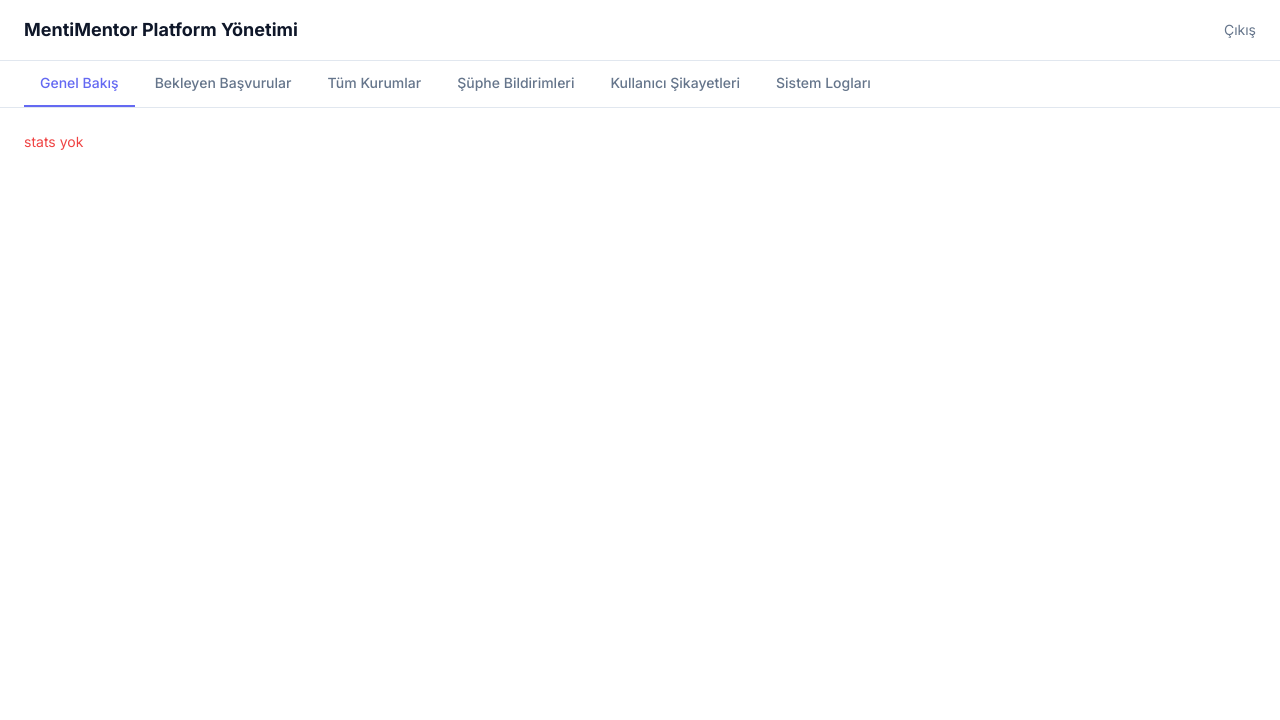
it: Platform paneli — kullanıcı şikayetleri sayfalama (AN-39) › negatif: total == items iken düğme yok
Click the button "Kullanıcı Şikayetleri" at coordinates (675, 84), box [594,61,756,107]
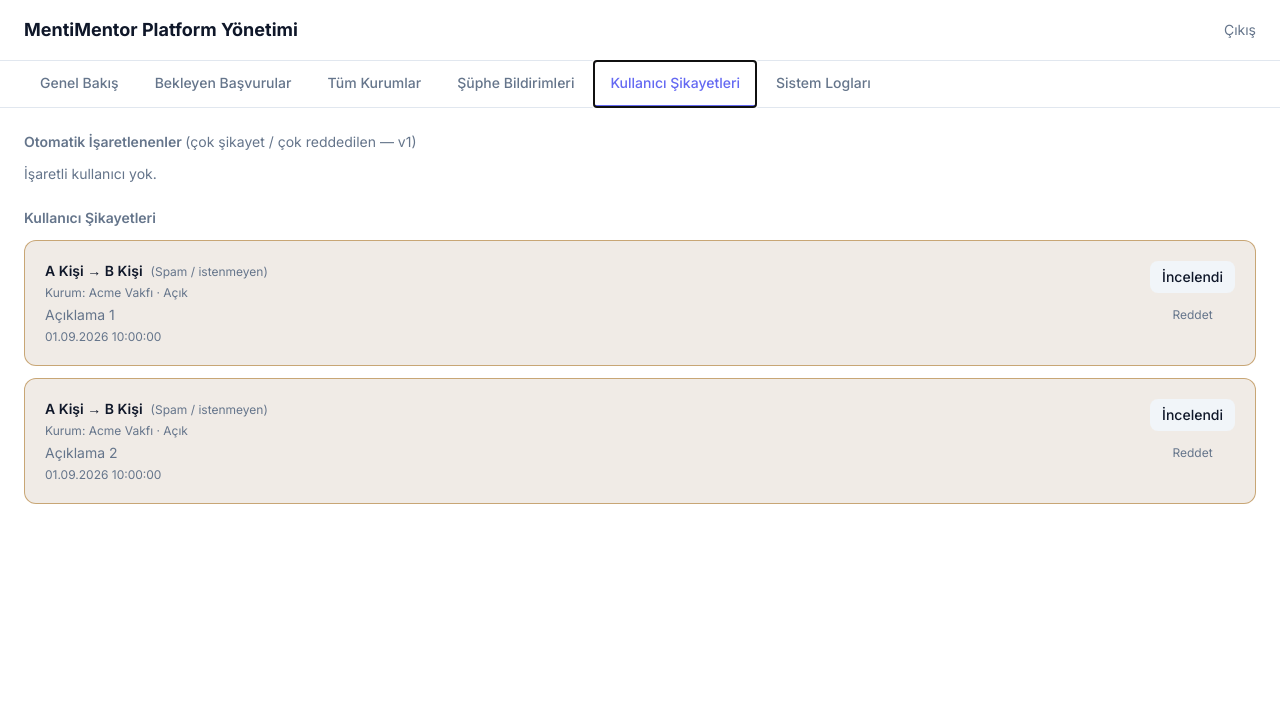
Result: the text "Açıklama 2" is shown at [45,444,118,461]
